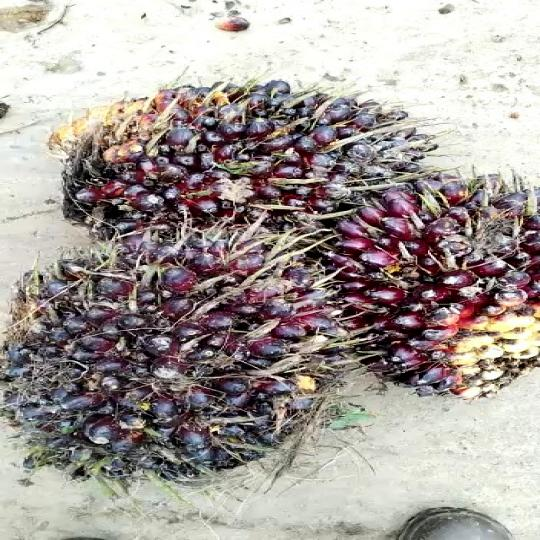kurang masak: (0, 229, 345, 488), (44, 70, 444, 235), (304, 170, 540, 390)
